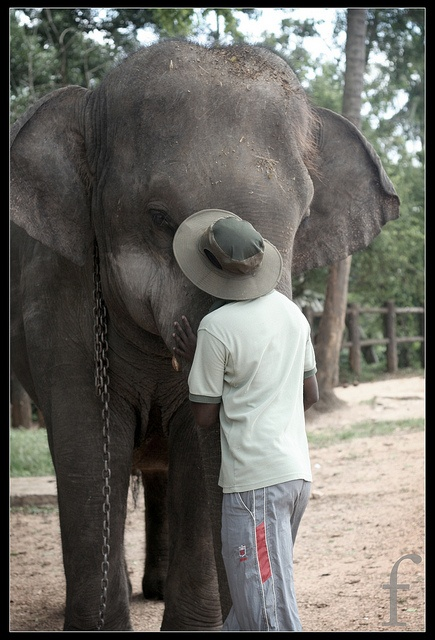elephant: (5, 36, 403, 632)
